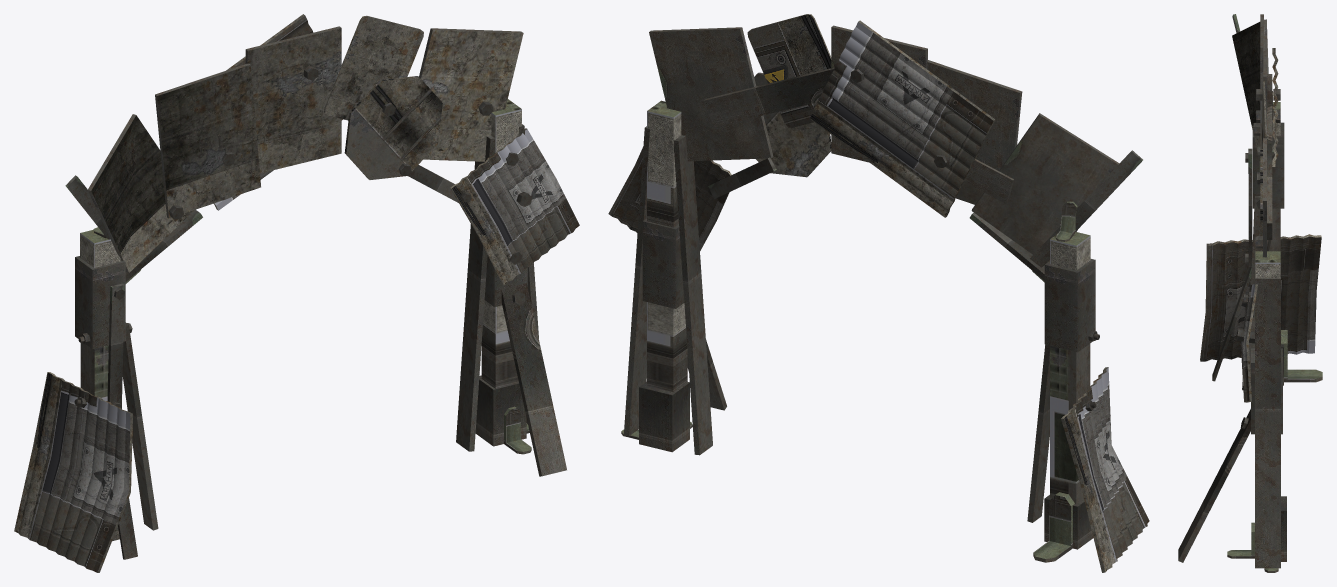
Rendered from trash gate.obj.
The picture shows the model from 3 angles, left to right: view 1: azimuth 30°, elevation 25°; view 2: azimuth 150°, elevation 25°; view 3: azimuth 270°, elevation 25°; orthographic projection. The views are drawn at different scales.
Visible parts, largest first — view 1: FIT_Steelworks_TrackGate; view 2: FIT_Steelworks_TrackGate; view 3: FIT_Steelworks_TrackGate.
Boxes of the visible parts, x1,y1,x2,y2 form: FIT_Steelworks_TrackGate: (14, 14, 579, 572); FIT_Steelworks_TrackGate: (608, 14, 1149, 572); FIT_Steelworks_TrackGate: (1178, 14, 1322, 572).
Bounding box in the file's own units: 772 × 654 × 203.
